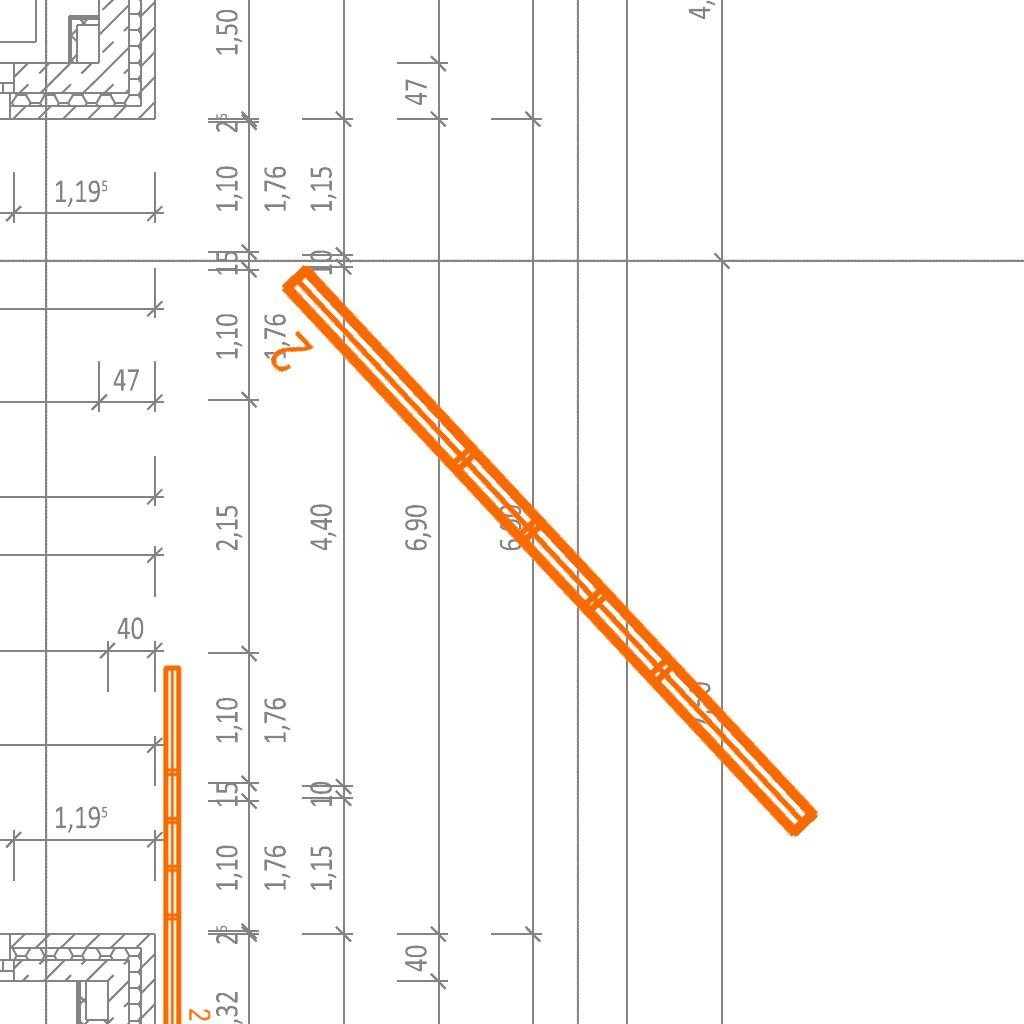Ambulanz_Pendelleuchte_LED: (227, 247, 837, 891), (157, 660, 213, 1024)
